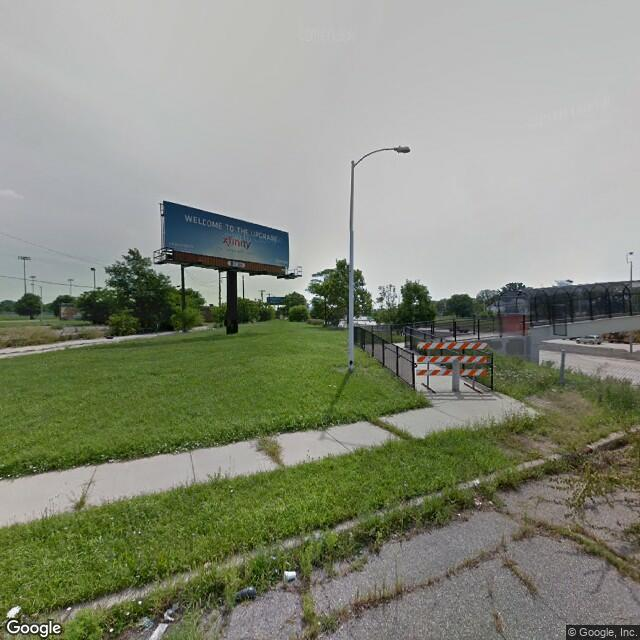litter: (465, 492, 504, 521), (225, 582, 265, 608), (151, 601, 190, 624), (3, 599, 29, 626), (104, 621, 130, 640), (278, 565, 298, 583)
